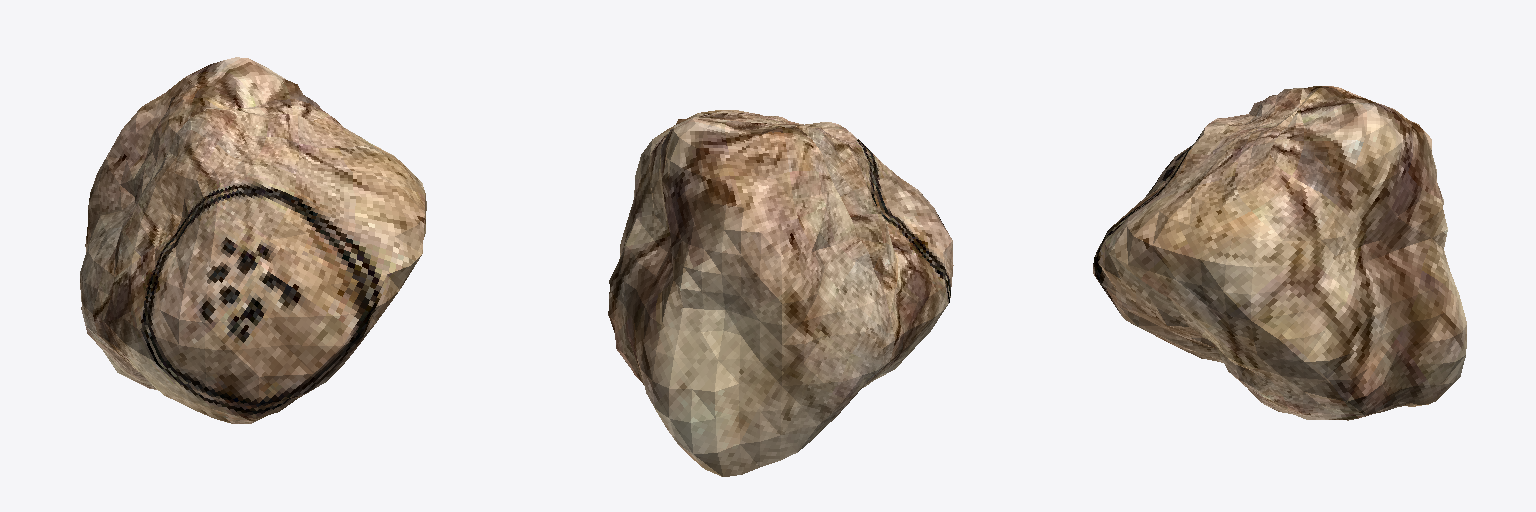
3 renders of one model, left to right at view 1: azimuth 30°, elevation 25°; view 2: azimuth 150°, elevation 25°; view 3: azimuth 270°, elevation 25°, orthographic.
Parts seen in each view (by area): view 1: Stone_5_LOD1; view 2: Stone_5_LOD1; view 3: Stone_5_LOD1.
Part boxes in pixels (bbox=[...]): Stone_5_LOD1: bbox=[80, 57, 426, 423]; Stone_5_LOD1: bbox=[608, 110, 953, 476]; Stone_5_LOD1: bbox=[1093, 86, 1466, 420].
Bounding box in the file's own units: 268 × 274 × 293.
Materials: 1 (1 with a texture image).